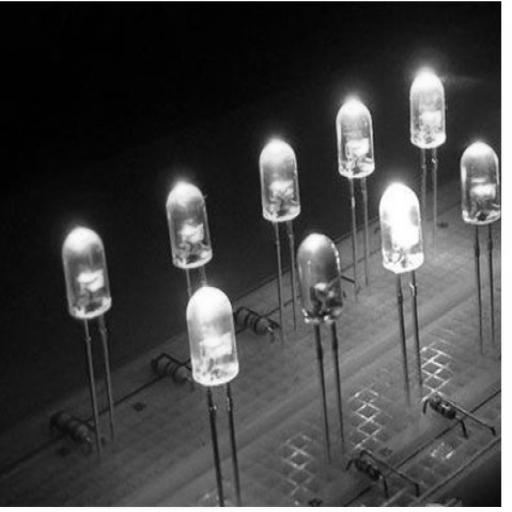LED: (275, 221, 378, 367), (351, 178, 454, 306), (44, 212, 140, 344), (170, 279, 272, 399), (401, 58, 483, 201), (308, 79, 403, 191), (150, 178, 232, 294), (456, 117, 511, 265), (251, 147, 307, 243)
